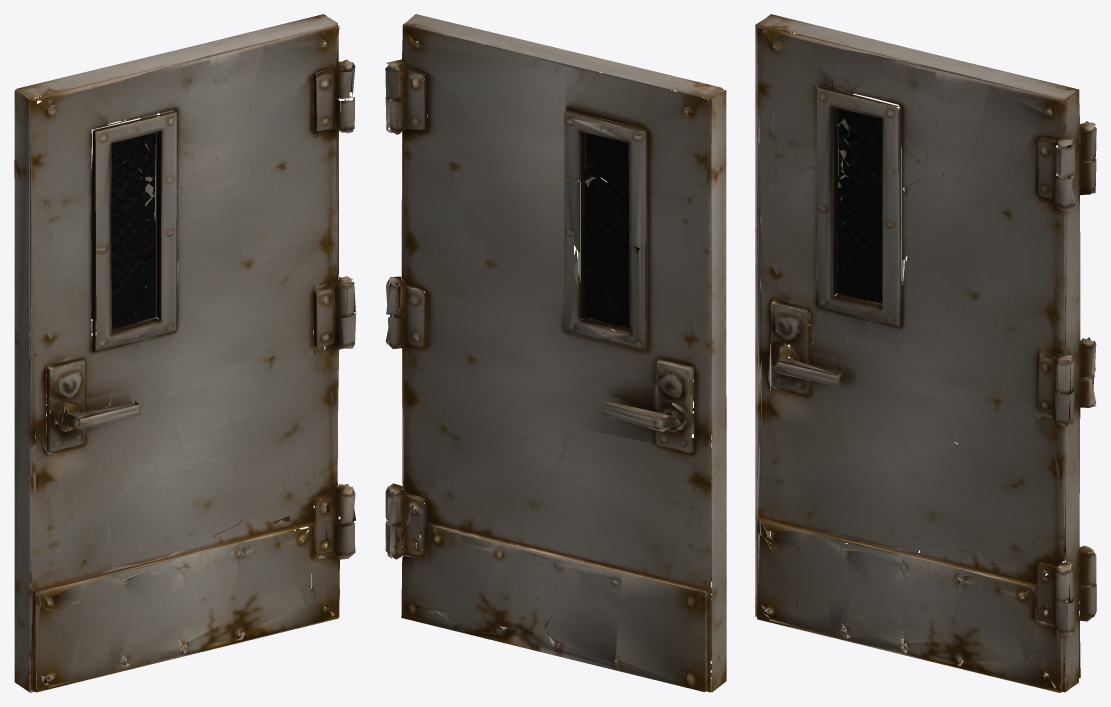
The model's file is door.glb.
The picture shows the model from 3 angles, left to right: view 1: azimuth 30°, elevation 25°; view 2: azimuth 150°, elevation 25°; view 3: azimuth 330°, elevation 25°; orthographic projection.
Visible parts, largest first — view 1: node_0; view 2: node_0; view 3: node_0.
Boxes of the visible parts, <box> form: node_0: <box>14,14,356,692</box>; node_0: <box>385,14,726,692</box>; node_0: <box>755,14,1096,692</box>.
Size of the model in its own units: 0.5948 by 1.05 by 0.1499.
Materials: 1 (1 with a texture image).
